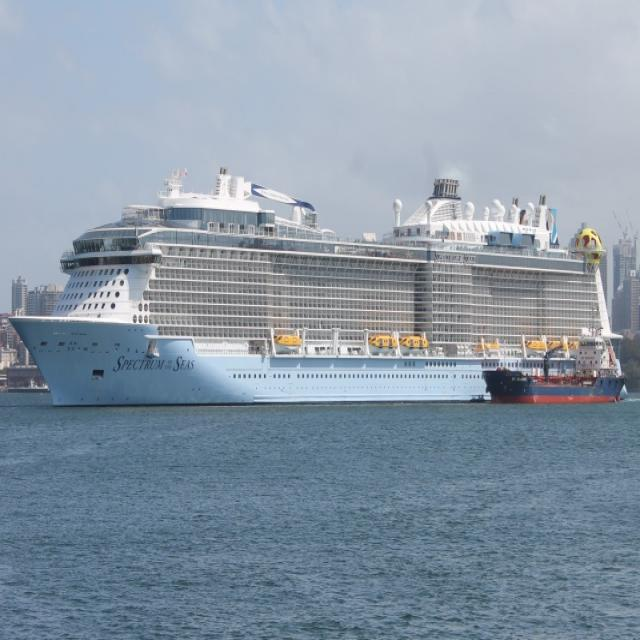cruises: (9, 162, 622, 412)
